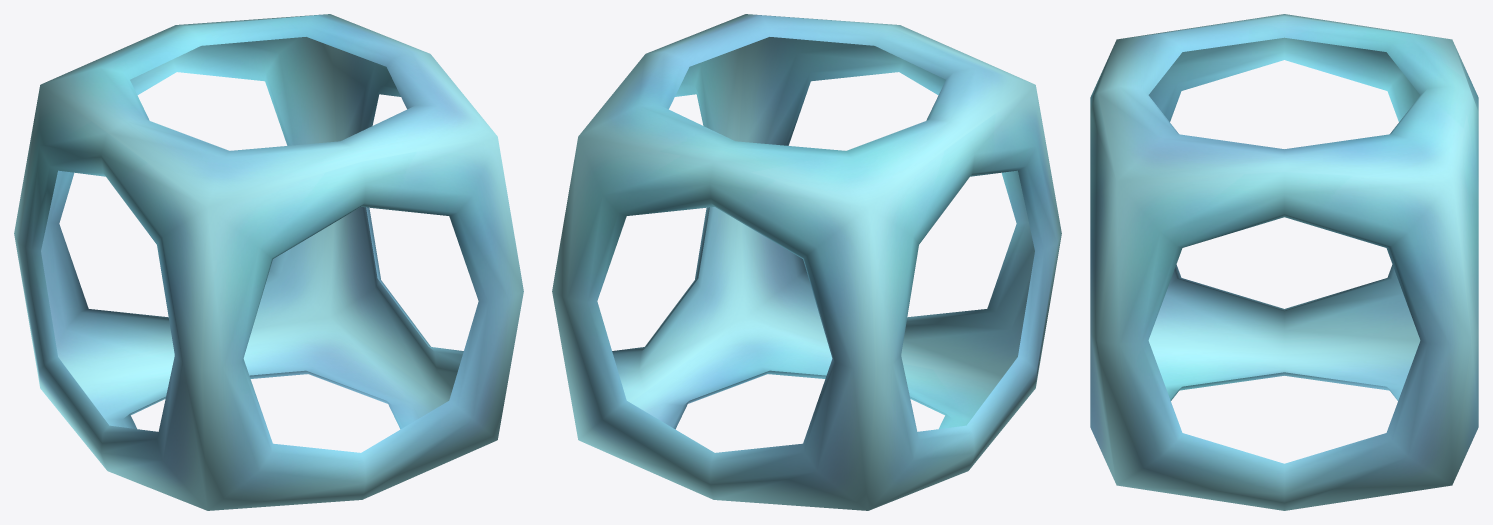
The picture shows the model from 3 angles, left to right: view 1: azimuth 30°, elevation 25°; view 2: azimuth 150°, elevation 25°; view 3: azimuth 270°, elevation 25°; orthographic projection.
Visible parts, largest first — view 1: Ice_Edge; view 2: Ice_Edge; view 3: Ice_Edge.
Boxes of the visible parts, x1,y1,x2,y2 form: Ice_Edge: [14, 14, 523, 510]; Ice_Edge: [552, 14, 1061, 510]; Ice_Edge: [1090, 14, 1478, 510].
Size of the model in its own units: 102 by 102 by 102.
Materials: 1 (1 with a texture image).
